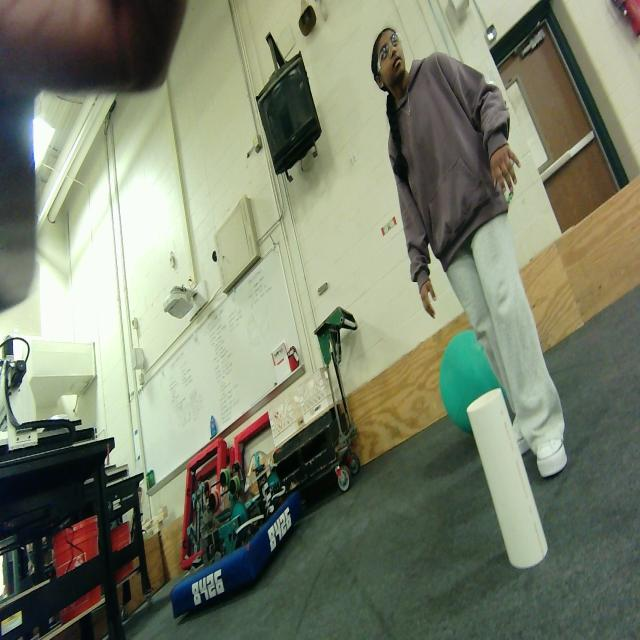coral: (467, 388, 547, 568)
